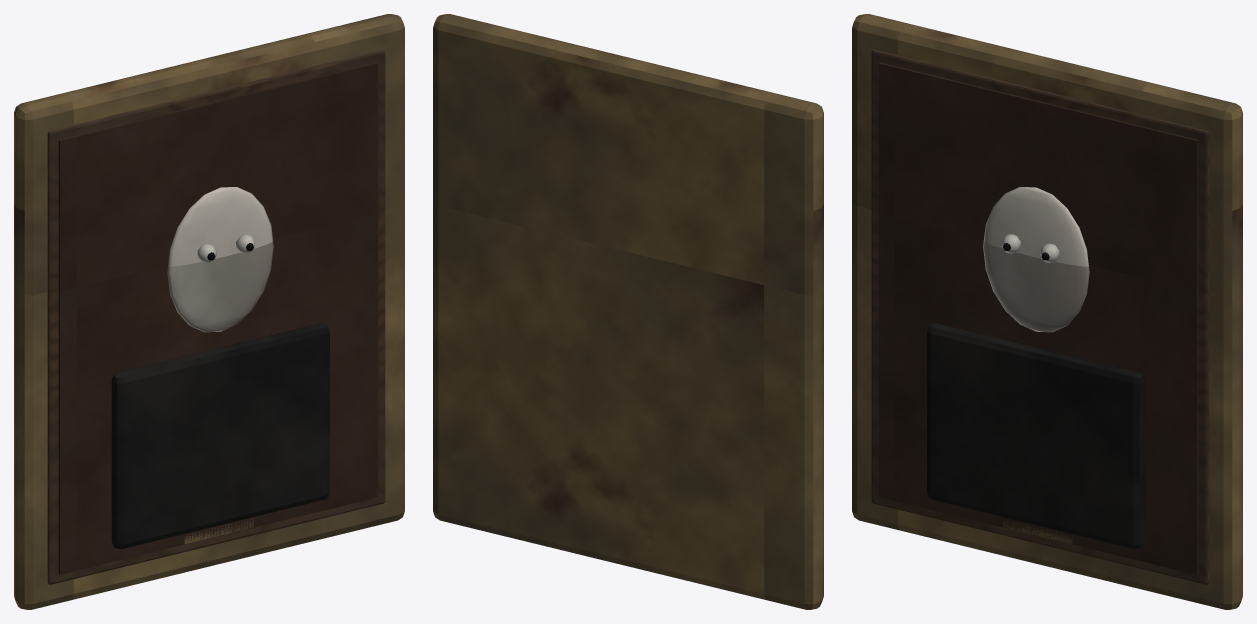
The model's file is O05_founder_portrait.glb.
3 renders of one model, left to right at view 1: azimuth 30°, elevation 25°; view 2: azimuth 150°, elevation 25°; view 3: azimuth 330°, elevation 25°, orthographic.
Parts seen in each view (by area): view 1: O05_founder_portrait; view 2: O05_founder_portrait; view 3: O05_founder_portrait.
Boxes of the visible parts, x1,y1,x2,y2 form: O05_founder_portrait: (14, 14, 404, 609); O05_founder_portrait: (433, 14, 823, 609); O05_founder_portrait: (852, 14, 1242, 609).
Size of the model in its own units: 0.8 by 1 by 0.108.
Materials: 7 (7 with a texture image).
